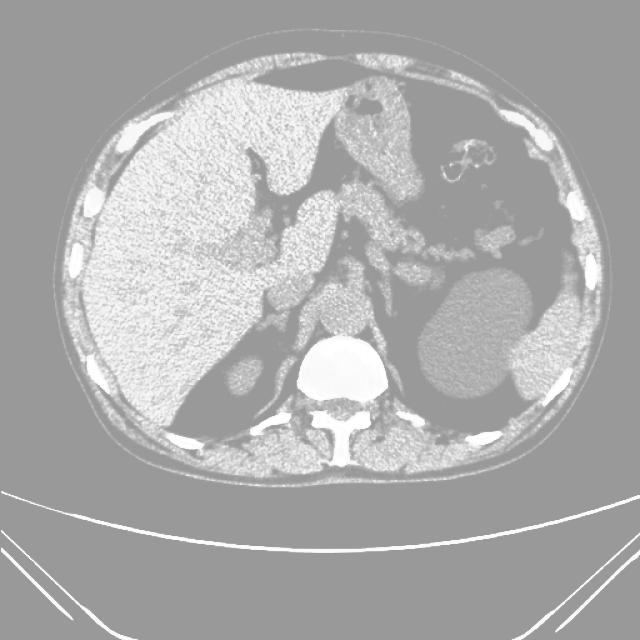cysts: (54, 41, 611, 485)
